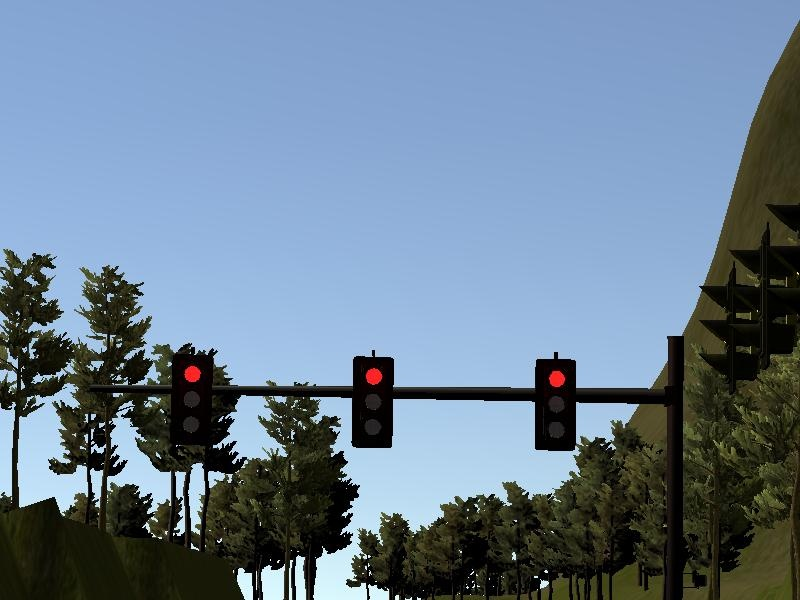red: (351, 355, 391, 449), (173, 355, 213, 449), (536, 357, 576, 451)
